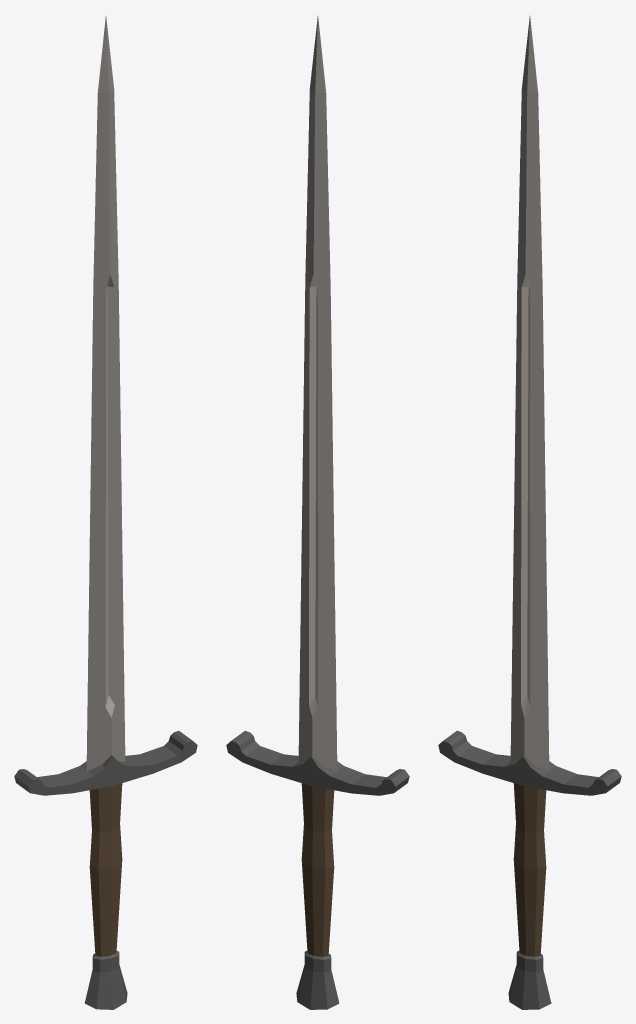
File: SM_pwe_medieval_sword_07.fbx
The picture shows the model from 3 angles, left to right: view 1: azimuth 30°, elevation 25°; view 2: azimuth 150°, elevation 25°; view 3: azimuth 330°, elevation 25°; orthographic projection.
Parts seen in each view (by area): view 1: SM_pwe_medieval_sword_07; view 2: SM_pwe_medieval_sword_07; view 3: SM_pwe_medieval_sword_07.
Part boxes in pixels (left/top/right/bottom): SM_pwe_medieval_sword_07: left=14, top=16, right=197, bottom=1009; SM_pwe_medieval_sword_07: left=226, top=16, right=409, bottom=1009; SM_pwe_medieval_sword_07: left=438, top=16, right=621, bottom=1009.
Size of the model in its own units: 17.79 by 99.35 by 2.82.
